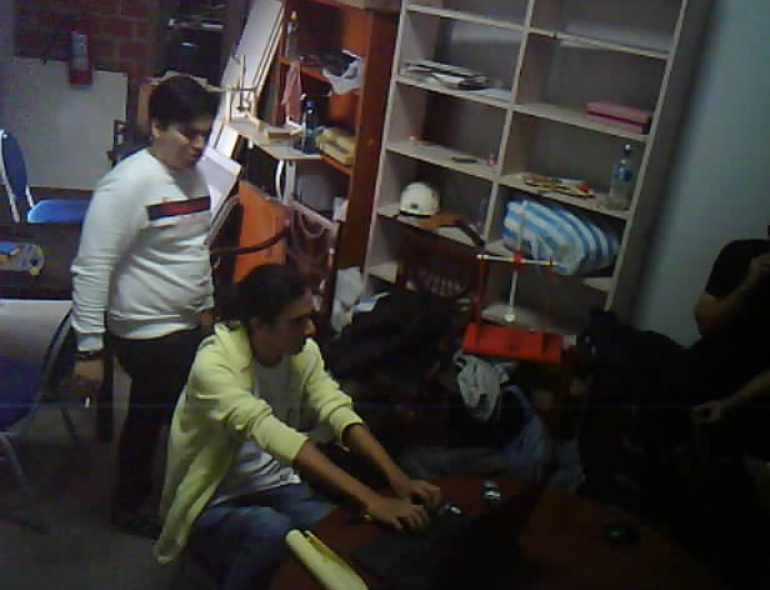person: (146, 267, 489, 590), (46, 25, 226, 551), (655, 179, 770, 531)
